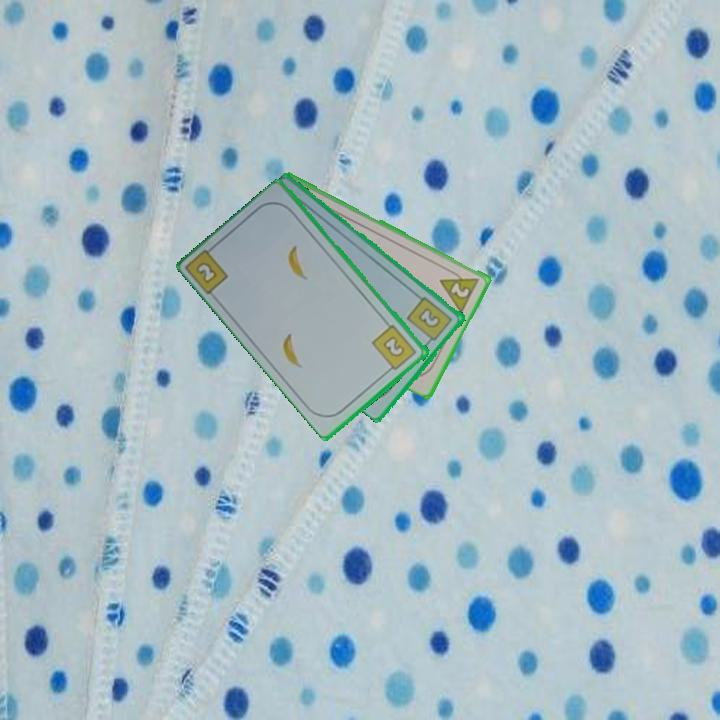2b: (404, 293, 456, 347), (184, 240, 232, 298), (369, 321, 420, 375)
2p: (436, 264, 482, 315)
